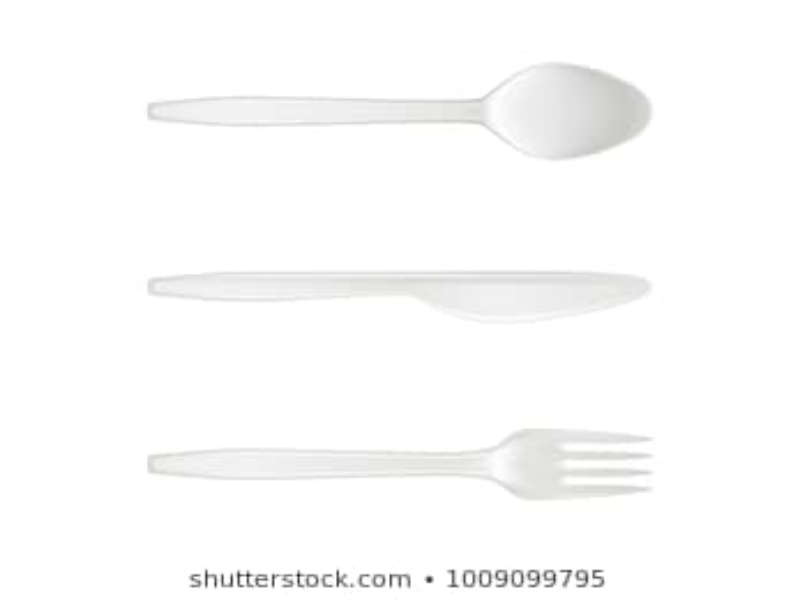plastic-silverware: (149, 59, 653, 159), (144, 429, 653, 498), (146, 273, 654, 321)
